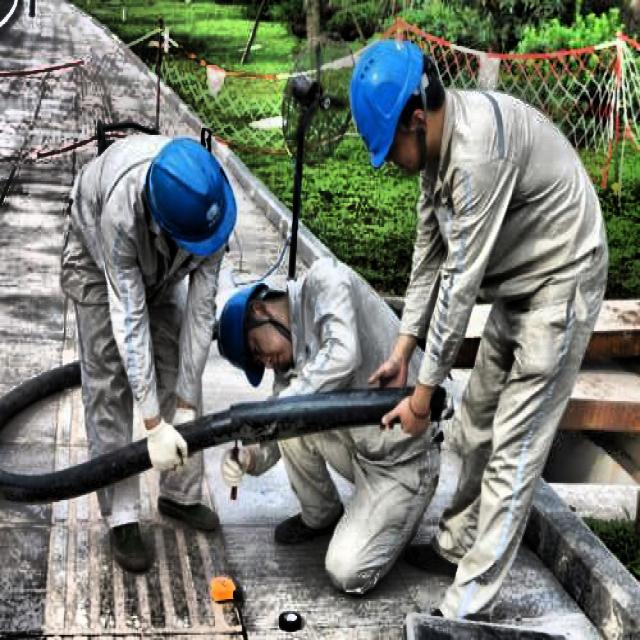helmet: (334, 26, 449, 190), (142, 136, 234, 270), (211, 283, 310, 391)
